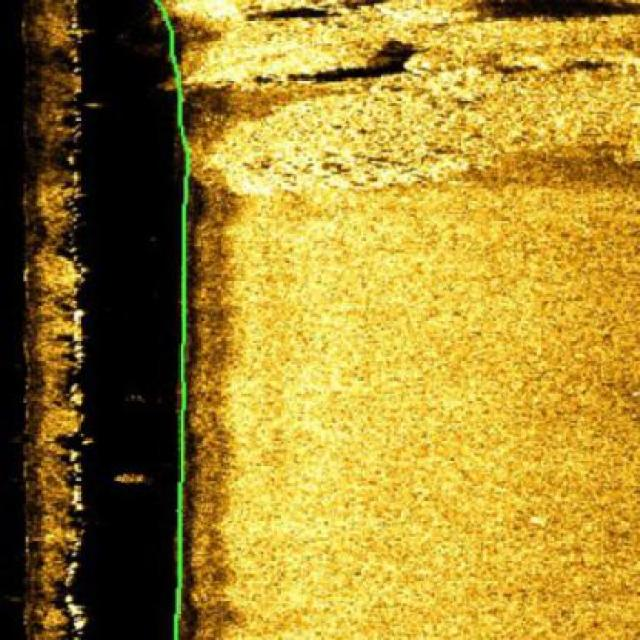bedrock group: (168, 0, 640, 191)
